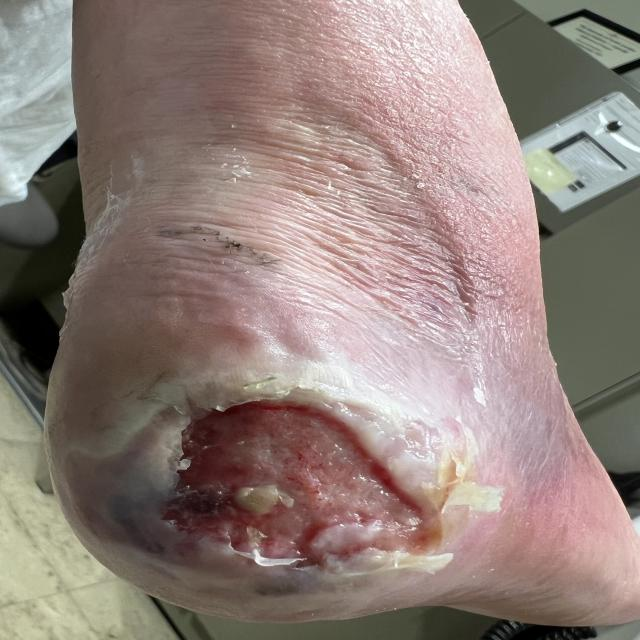stage-3: (169, 403, 423, 568)
